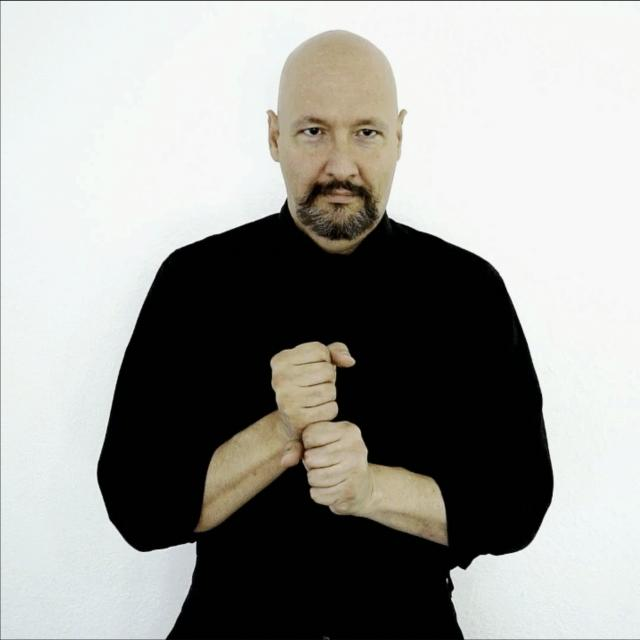get: (271, 342, 368, 514)
